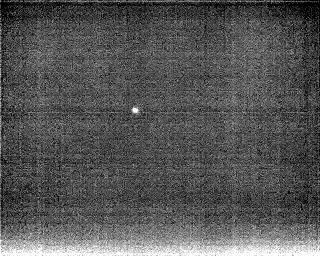AIRPLANE: (130, 105, 141, 115)
